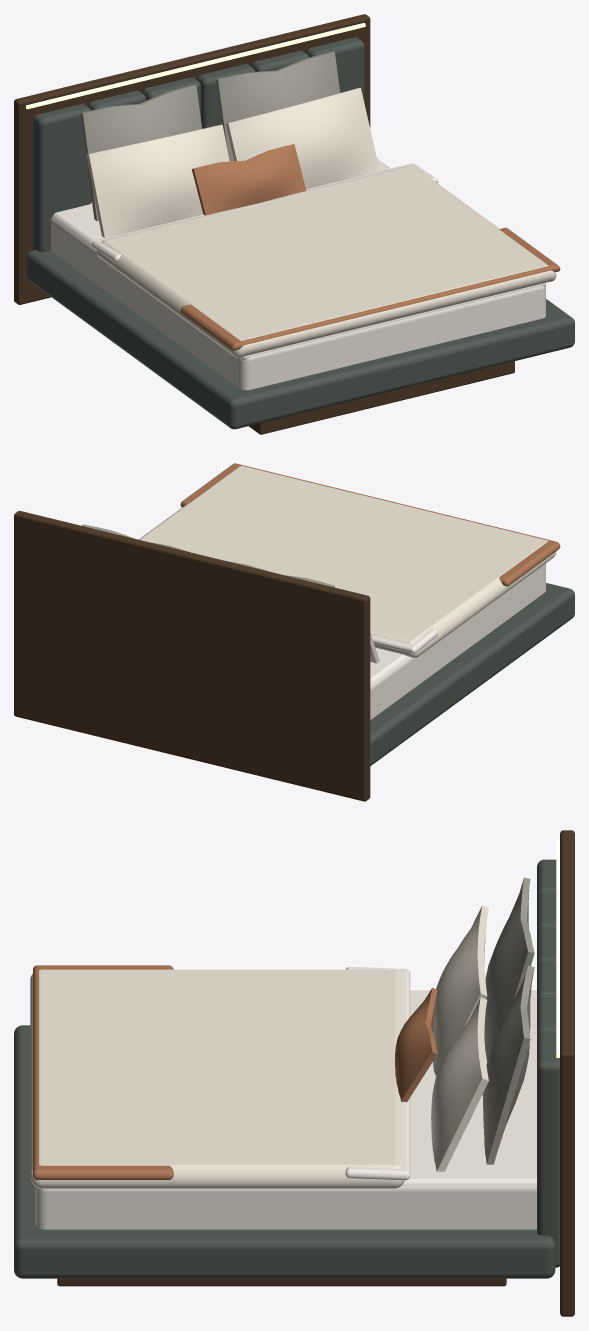
The model's file is atelier-bed-platform-queen.glb.
The picture shows the model from 3 angles, top to bottom: view 1: azimuth 30°, elevation 25°; view 2: azimuth 150°, elevation 25°; view 3: azimuth 270°, elevation 25°; orthographic projection. The views are drawn at different scales.
Bounding box in the file's own units: 1.96 × 1.08 × 2.07.
